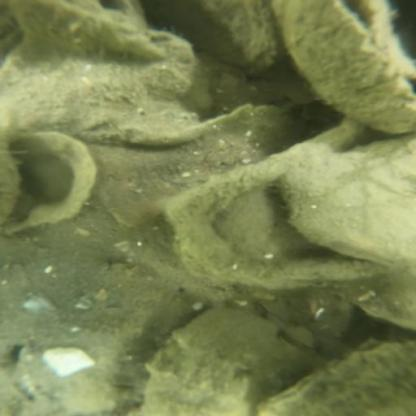Oyster-Closed: (2, 32, 196, 143), (278, 134, 415, 268), (137, 309, 307, 415), (1, 318, 129, 416), (256, 347, 414, 416), (6, 0, 164, 57), (161, 0, 278, 72)
Oyster-Open: (272, 0, 416, 133)
